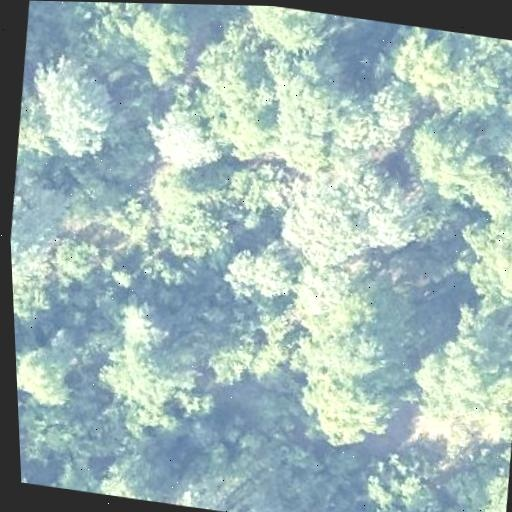tree-top: (272, 257, 432, 462), (94, 294, 224, 444), (277, 154, 437, 275), (384, 24, 512, 132), (405, 337, 512, 456), (24, 53, 128, 169), (254, 57, 351, 165), (144, 163, 236, 267), (407, 109, 495, 196), (114, 3, 204, 88), (445, 195, 512, 306), (143, 96, 232, 179), (188, 32, 272, 109), (211, 159, 298, 233), (9, 200, 66, 309), (354, 454, 455, 512), (234, 5, 340, 57), (216, 244, 300, 304), (201, 329, 265, 404), (15, 336, 77, 412), (93, 441, 169, 503), (39, 227, 105, 292), (453, 297, 512, 365), (442, 460, 512, 512), (165, 466, 241, 512), (468, 160, 512, 221), (500, 73, 512, 208), (486, 37, 512, 64), (298, 509, 408, 512)
